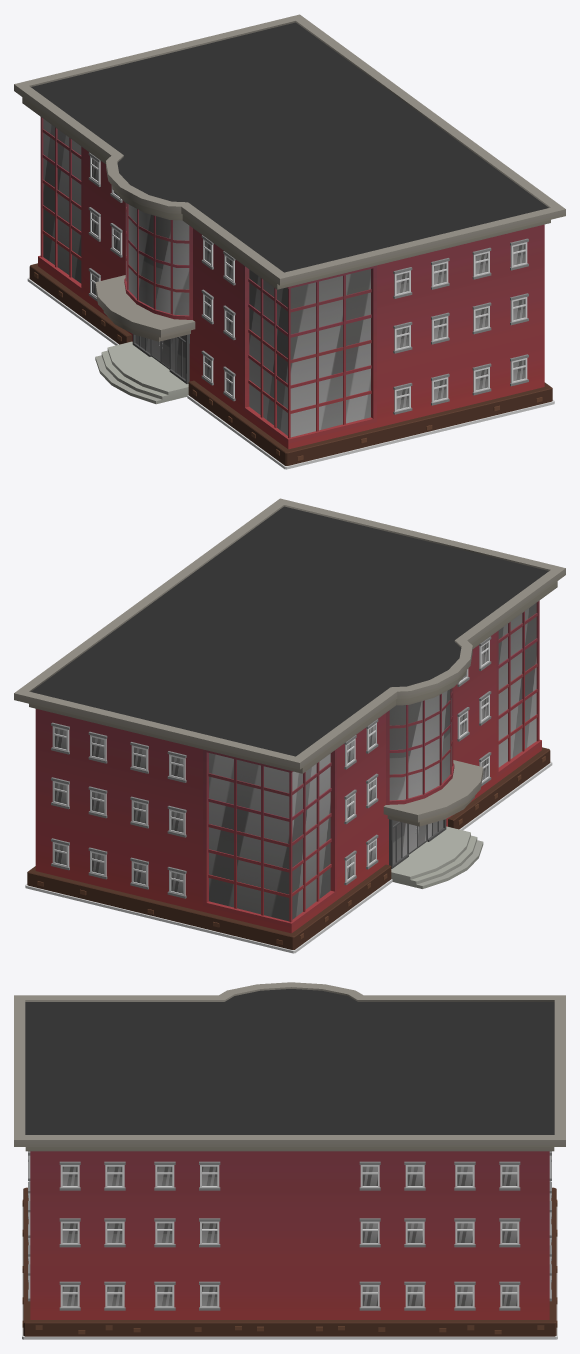
File: Building_23_F.fbx
3 views of the same model, one above another, from view 1: azimuth 30°, elevation 25°; view 2: azimuth 150°, elevation 25°; view 3: azimuth 270°, elevation 25° (orthographic). The views are drawn at different scales.
Parts seen in each view (by area): view 1: Building_23_F; view 2: Building_23_F; view 3: Building_23_F.
Part boxes in pixels (x1,y1,x2,y2): Building_23_F: (14, 14, 565, 469); Building_23_F: (14, 498, 565, 953); Building_23_F: (14, 982, 565, 1339).
Bounding box in the file's own units: 2073 × 1207 × 2972.
